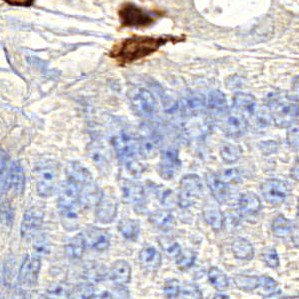Lymphocyte: (108, 34, 190, 62)
